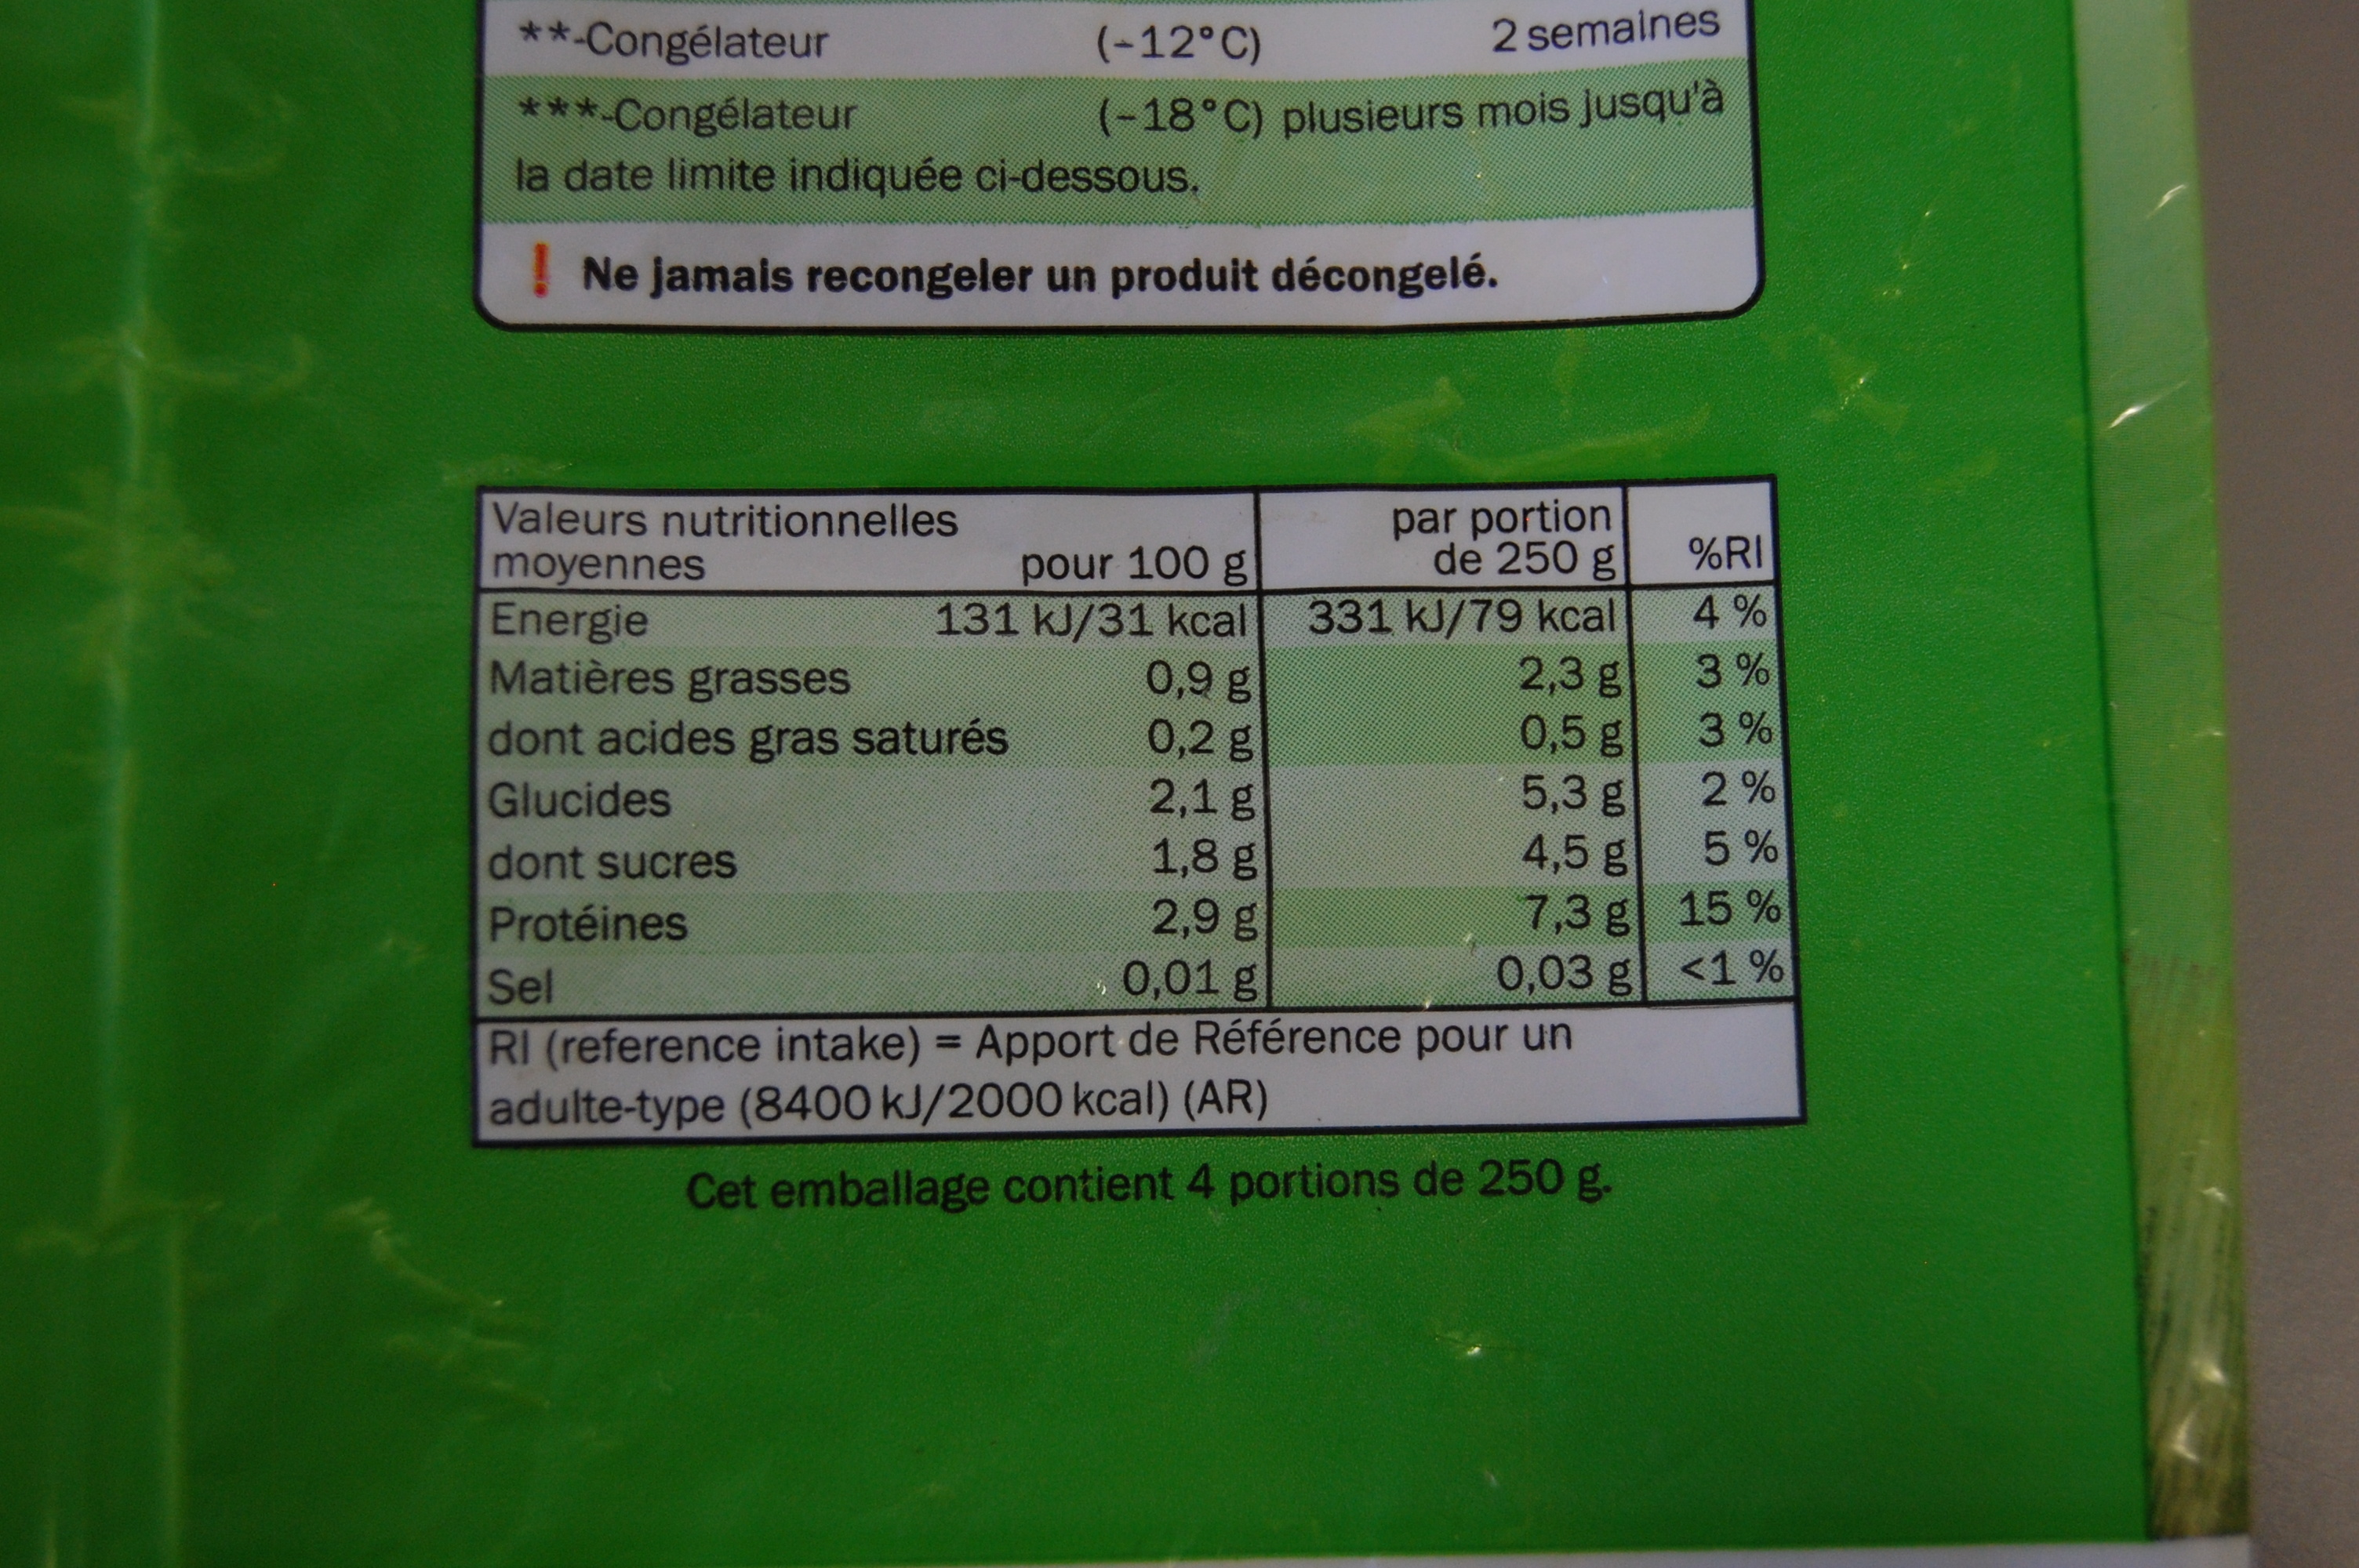column: (486, 494, 1262, 1013), (1302, 497, 1633, 999), (1657, 518, 1792, 998)
table: (462, 481, 1803, 1022)
